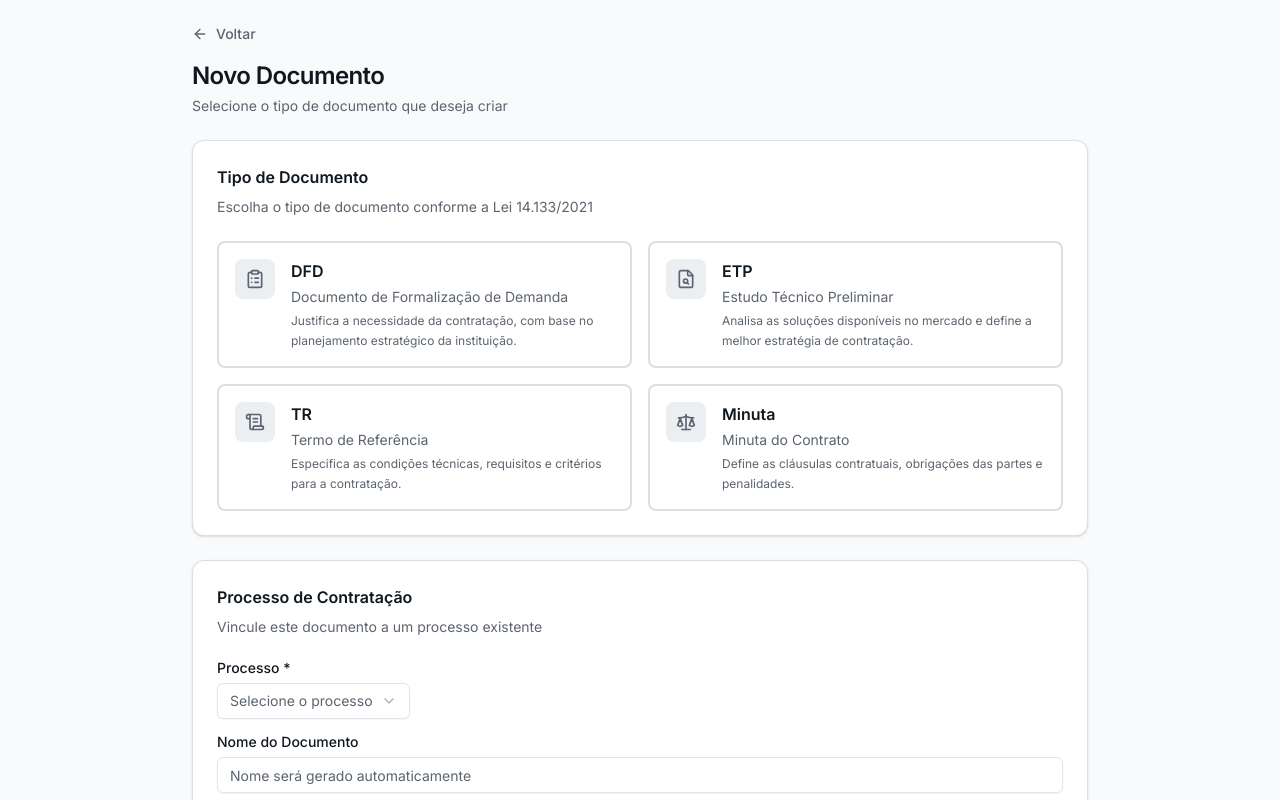
Scenario: DocumentCreatePage › 4.3 – Picker states › shows empty state message when no processes are available
Open the select to see the empty state
Click the dropdown: (313, 701) [217,683,410,719]
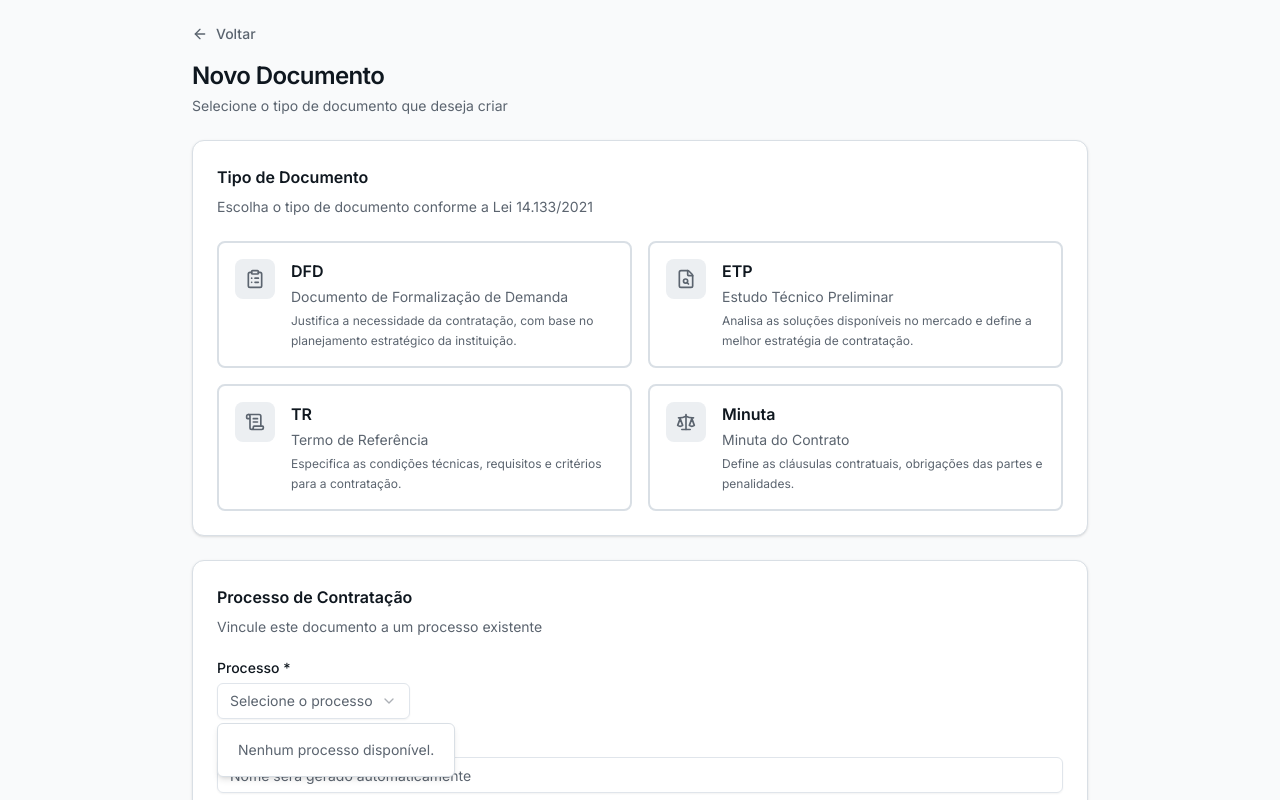
Expected: the text "Nenhum processo disponível." is shown, [238,741,434,758]
